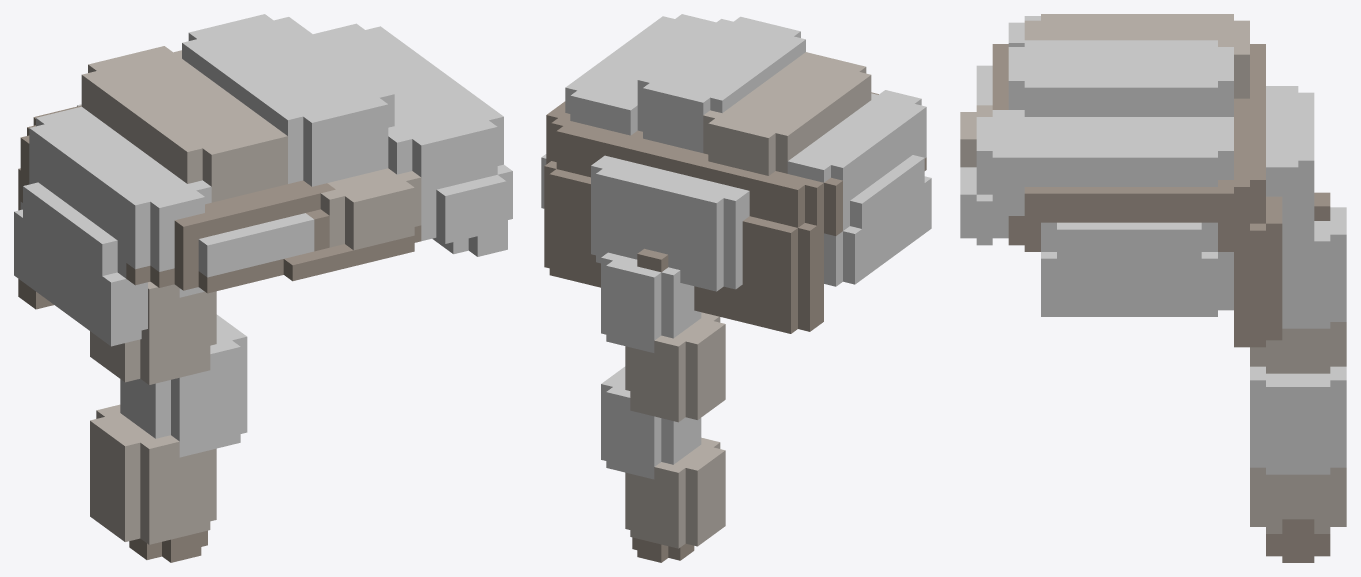
The model's file is hair_f_braid_long.glb.
The picture shows the model from 3 angles, left to right: view 1: azimuth 30°, elevation 25°; view 2: azimuth 150°, elevation 25°; view 3: azimuth 270°, elevation 25°; orthographic projection. The views are drawn at different scales.
Parts seen in each view (by area): view 1: VoxelVisual; view 2: VoxelVisual; view 3: VoxelVisual.
Part boxes in pixels (x1,y1,x2,y2): VoxelVisual: [14, 14, 512, 562]; VoxelVisual: [541, 14, 931, 562]; VoxelVisual: [960, 14, 1346, 562].
Size of what is drawn, in the model's own units: 1.62 by 2.12 by 1.5.
